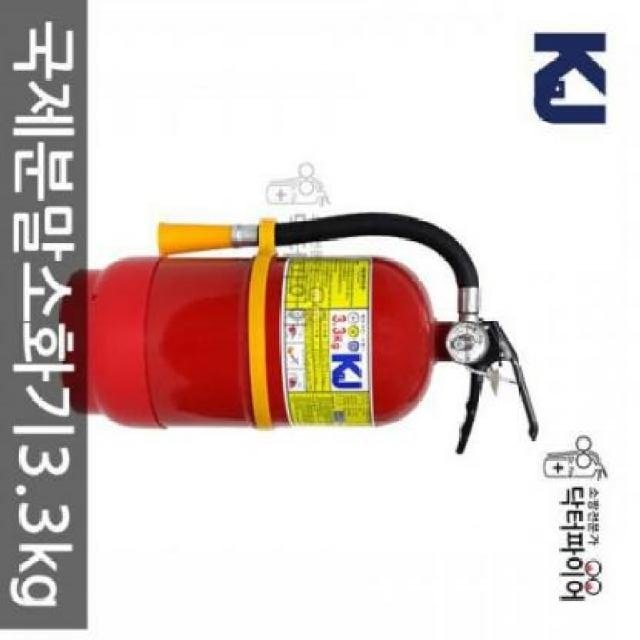fire extinguisher: (59, 211, 539, 454)
